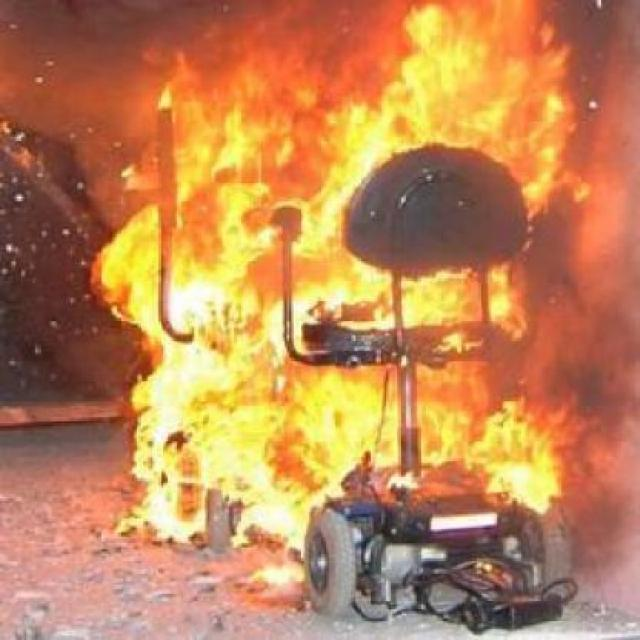Fire: (92, 32, 610, 572)
